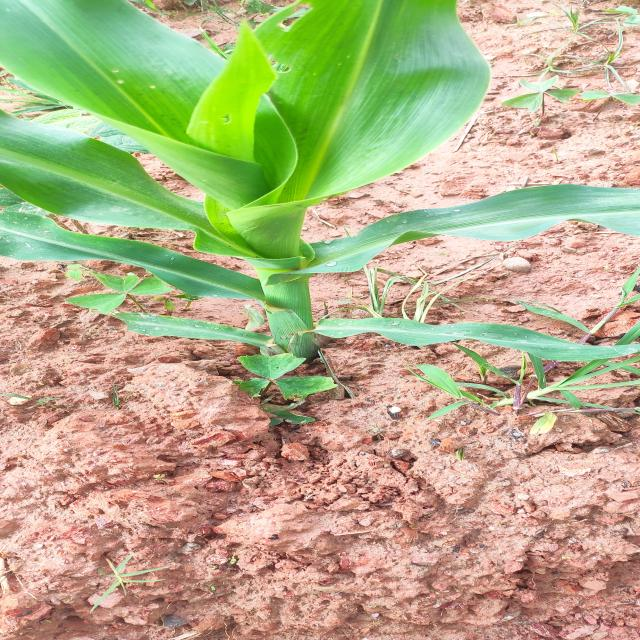maize: (0, 3, 640, 344)
weed: (420, 339, 640, 424), (239, 354, 316, 424)
